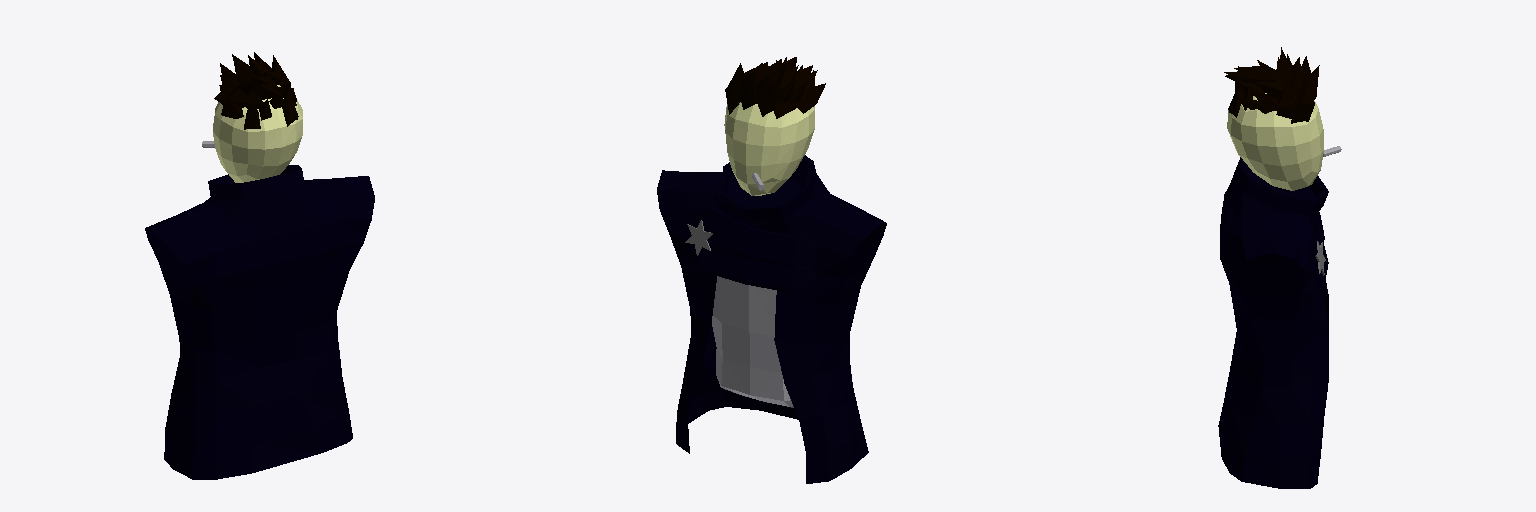
File: PlayerBody_02.obj
3 renders of one model, left to right at view 1: azimuth 30°, elevation 25°; view 2: azimuth 150°, elevation 25°; view 3: azimuth 270°, elevation 25°, orthographic.
Visible parts, largest first — view 1: Body, Box085; view 2: Body, Box085; view 3: Body, Box085, Pyramid001.
Boxes of the visible parts, x1,y1,x2,y2 form: Body: [145, 165, 374, 479]; Box085: [213, 85, 302, 182]; Body: [657, 155, 886, 483]; Box085: [724, 102, 814, 195]; Body: [1218, 157, 1328, 488]; Box085: [1227, 93, 1323, 190]; Pyramid001: [1291, 73, 1314, 123].
Size of the model in its own units: 0.619 by 1.08 by 0.3021.